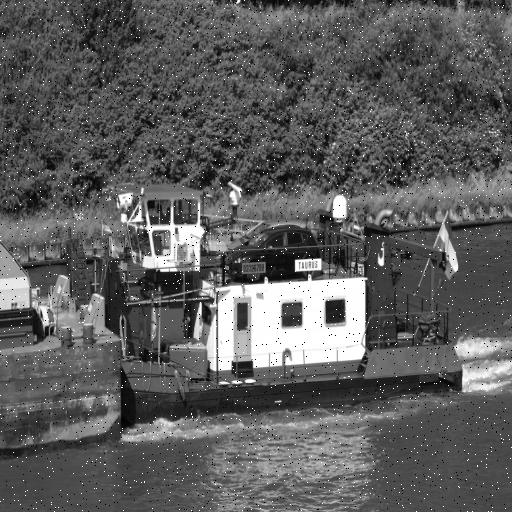tugboat: (64, 169, 470, 437)
